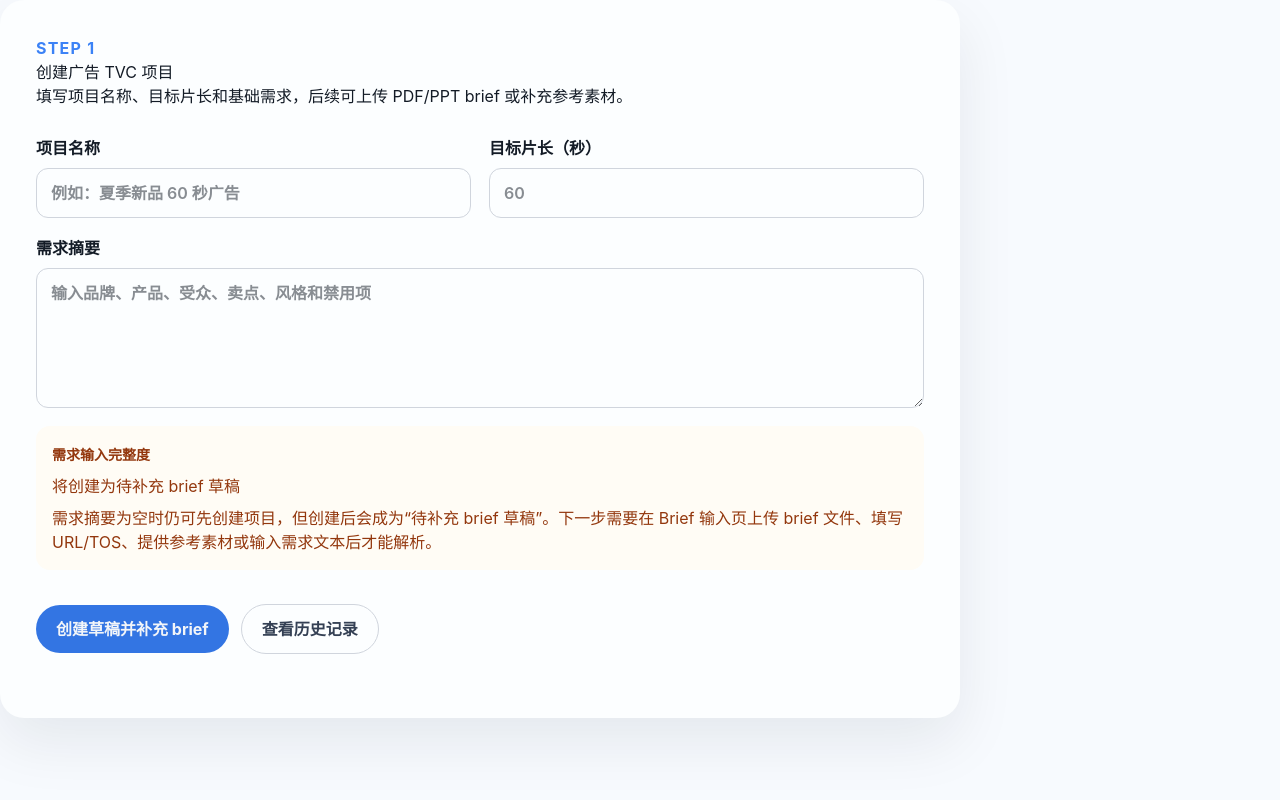
ProjectCreatePage › 空项目名仍被本地拦截
Click the button "创建草稿并补充 brief" at (132, 629), box [36,605,229,653]
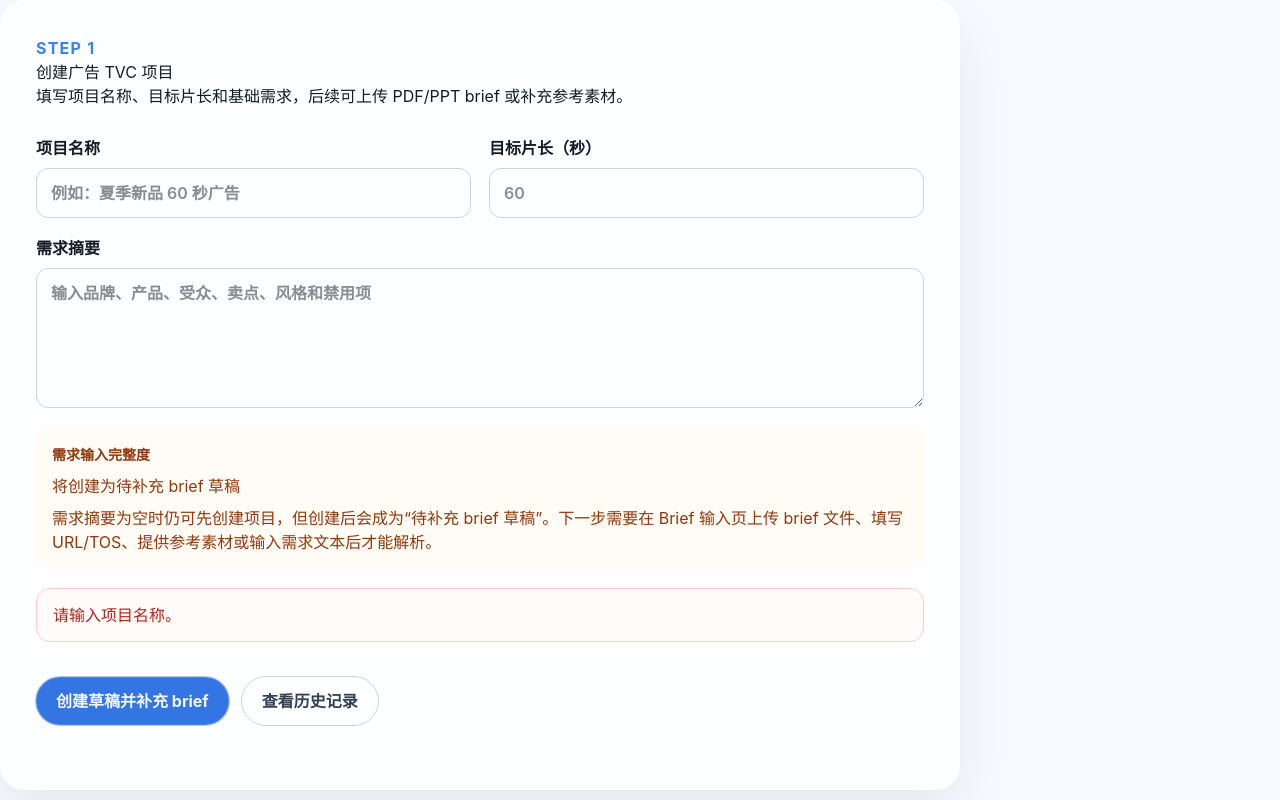
Now the text "请输入项目名称。" is shown, box [36,588,924,642]
